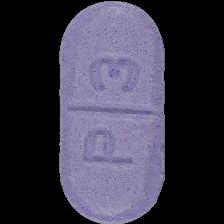68084-974: (0, 0, 224, 224)
